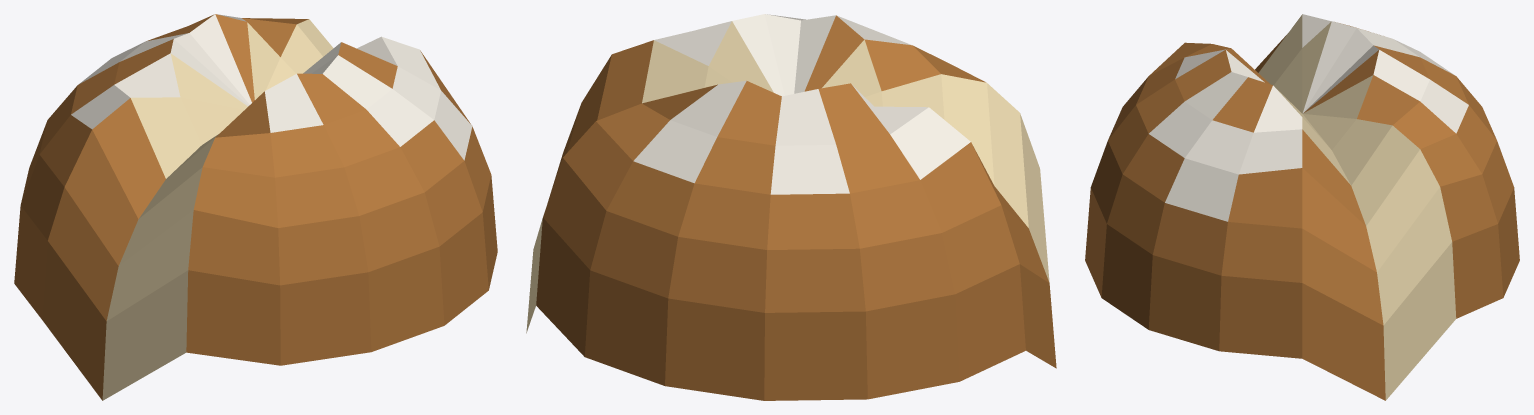
Rendered from mdvl_food_roll_01.glb.
The picture shows the model from 3 angles, left to right: view 1: azimuth 30°, elevation 25°; view 2: azimuth 150°, elevation 25°; view 3: azimuth 270°, elevation 25°; orthographic projection. The views are drawn at different scales.
Visible parts, largest first — view 1: mdvl_food_roll_01; view 2: mdvl_food_roll_01; view 3: mdvl_food_roll_01.
Part boxes in pixels (x1,y1,x2,y2): mdvl_food_roll_01: (14, 14, 497, 400); mdvl_food_roll_01: (526, 14, 1056, 400); mdvl_food_roll_01: (1085, 14, 1519, 400).
Size of the model in its own units: 0.092 by 0.0568 by 0.086.
Materials: 1 (1 with a texture image).
